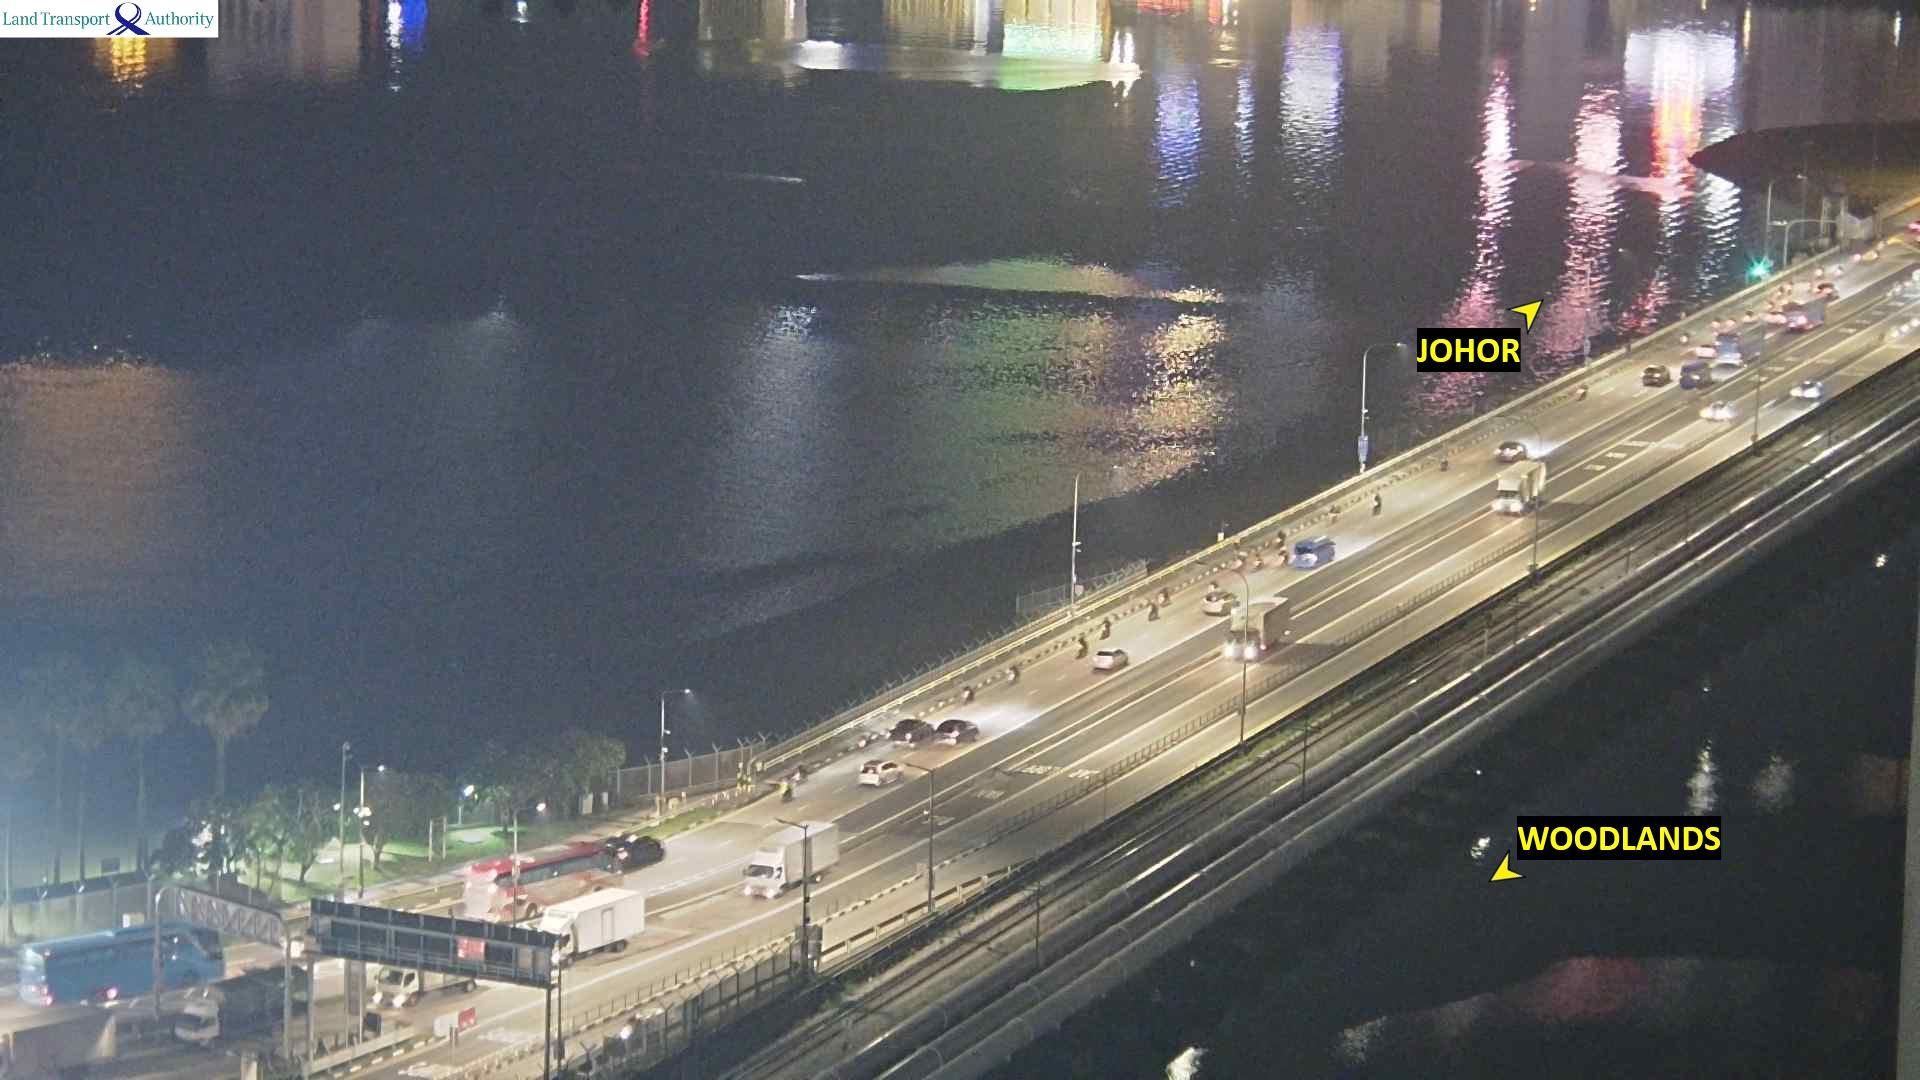vehicle-causeway-johor: (469, 844, 625, 901), (603, 828, 666, 869), (887, 715, 973, 744), (1145, 553, 1175, 607), (1283, 539, 1333, 568), (855, 761, 902, 789), (1494, 443, 1532, 463), (1095, 647, 1124, 670), (794, 762, 811, 783), (1101, 616, 1114, 641), (778, 778, 793, 799), (1007, 665, 1023, 683), (961, 687, 977, 704), (1371, 493, 1385, 512), (1077, 633, 1085, 657), (1149, 597, 1156, 621)
vehicle-causeway-singapore: (22, 924, 222, 1009), (1702, 404, 1735, 422), (1796, 378, 1822, 400)
